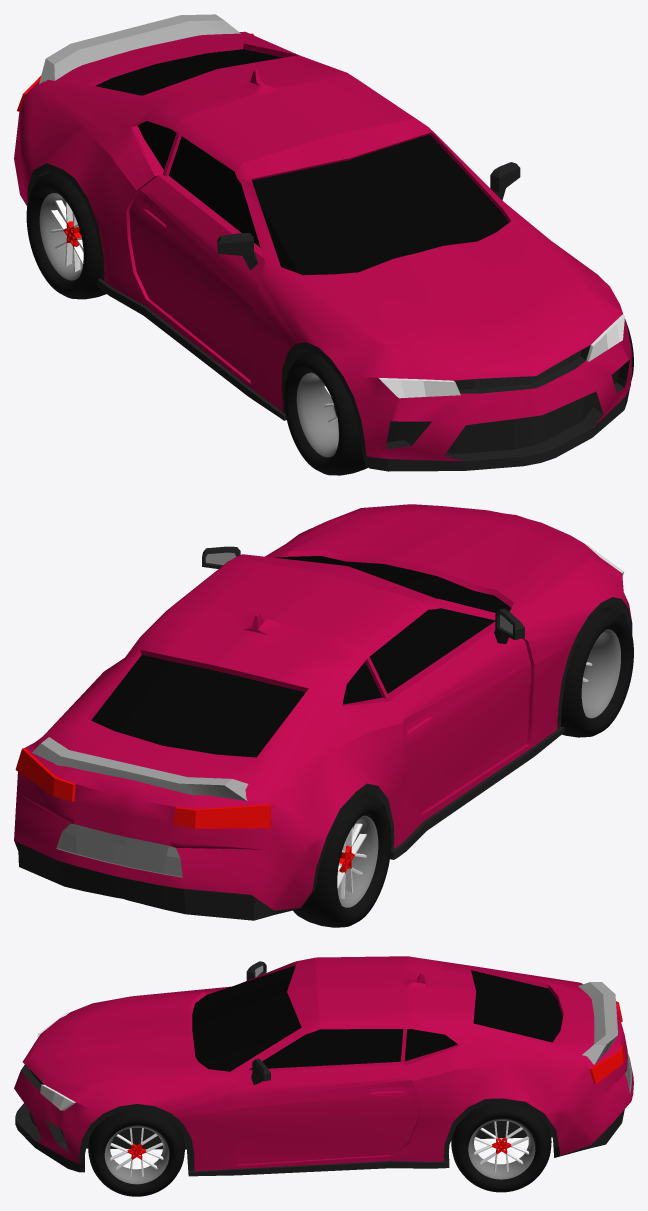
The model's file is camaro.glb.
3 views of the same model, one above another, from view 1: azimuth 30°, elevation 25°; view 2: azimuth 150°, elevation 25°; view 3: azimuth 270°, elevation 25° (orthographic). The views are drawn at different scales.
Parts seen in each view (by area): view 1: polySurface59_Pink_Body_Color_0, polySurface43_Windows_Color_0.001, polySurface65_Second_Body_Color_0.001, Tier_Wheel_Black_0.005, Back_White1_0, Tier_Wheel_Black_0.007, pPipe4_Wheel_Gray_0.005, polySurface41_Front_Lights_Color_0.001, pPipe4_Wheel_Gray_0.007, pCube871_Wheel_White_0.007, Left_Side_Mirror_Second_Body_Color_0.001, Right_Side_Mirror_Second_Body_Color_0.001; view 2: polySurface59_Pink_Body_Color_0, polySurface43_Windows_Color_0.001, polySurface65_Second_Body_Color_0.001, Tier_Wheel_Black_0.007, Tier_Wheel_Black_0.005, Back_White1_0, polySurface45_Third_Cody_Color_0.001, polySurface49_Back_Light_Color_0.001, pPipe4_Wheel_Gray_0.005, pPipe4_Wheel_Gray_0.007, pCube871_Wheel_White_0.007, Left_Side_Mirror_Second_Body_Color_0.001; view 3: polySurface59_Pink_Body_Color_0, polySurface43_Windows_Color_0.001, polySurface65_Second_Body_Color_0.001, Tier_Wheel_Black_0.006, Tier_Wheel_Black_0.004, Back_White1_0, pPipe4_Wheel_Gray_0.006, pPipe4_Wheel_Gray_0.004, pCube871_Wheel_White_0.006, pCube871_Wheel_White_0.004, polySurface49_Back_Light_Color_0.001, polySurface41_Front_Lights_Color_0.001 (+1 smaller).
Boxes of the visible parts, x1=… form: polySurface59_Pink_Body_Color_0: x1=14, y1=31, x2=631, y2=461; polySurface43_Windows_Color_0.001: x1=95, y1=49, x2=508, y2=275; polySurface65_Second_Body_Color_0.001: x1=27, y1=163, x2=630, y2=471; Tier_Wheel_Black_0.005: x1=284, y1=351, x2=367, y2=475; Back_White1_0: x1=39, y1=14, x2=240, y2=84; Tier_Wheel_Black_0.007: x1=26, y1=171, x2=106, y2=299; pPipe4_Wheel_Gray_0.005: x1=296, y1=372, x2=338, y2=457; polySurface41_Front_Lights_Color_0.001: x1=379, y1=314, x2=624, y2=398; pPipe4_Wheel_Gray_0.007: x1=39, y1=193, x2=83, y2=280; pCube871_Wheel_White_0.007: x1=51, y1=200, x2=83, y2=271; Left_Side_Mirror_Second_Body_Color_0.001: x1=217, y1=233, x2=257, y2=270; Right_Side_Mirror_Second_Body_Color_0.001: x1=490, y1=162, x2=520, y2=200; polySurface59_Pink_Body_Color_0: x1=14, y1=504, x2=631, y2=910; polySurface43_Windows_Color_0.001: x1=91, y1=556, x2=511, y2=757; polySurface65_Second_Body_Color_0.001: x1=14, y1=597, x2=632, y2=920; Tier_Wheel_Black_0.007: x1=293, y1=792, x2=391, y2=927; Tier_Wheel_Black_0.005: x1=561, y1=607, x2=633, y2=737; Back_White1_0: x1=32, y1=737, x2=248, y2=800; polySurface45_Third_Cody_Color_0.001: x1=56, y1=823, x2=182, y2=877; polySurface49_Back_Light_Color_0.001: x1=15, y1=748, x2=271, y2=828; pPipe4_Wheel_Gray_0.005: x1=581, y1=629, x2=620, y2=718; pPipe4_Wheel_Gray_0.007: x1=337, y1=815, x2=378, y2=907; pCube871_Wheel_White_0.007: x1=337, y1=823, x2=366, y2=898; Left_Side_Mirror_Second_Body_Color_0.001: x1=494, y1=608, x2=524, y2=643; polySurface59_Pink_Body_Color_0: x1=14, y1=956, x2=633, y2=1171; polySurface43_Windows_Color_0.001: x1=192, y1=965, x2=562, y2=1071; polySurface65_Second_Body_Color_0.001: x1=15, y1=1064, x2=624, y2=1176; Tier_Wheel_Black_0.006: x1=451, y1=1098, x2=551, y2=1192; Tier_Wheel_Black_0.004: x1=88, y1=1109, x2=184, y2=1196; Back_White1_0: x1=578, y1=982, x2=617, y2=1064; pPipe4_Wheel_Gray_0.006: x1=468, y1=1119, x2=535, y2=1179; pPipe4_Wheel_Gray_0.004: x1=104, y1=1125, x2=169, y2=1184; pCube871_Wheel_White_0.006: x1=474, y1=1121, x2=529, y2=1171; pCube871_Wheel_White_0.004: x1=110, y1=1128, x2=163, y2=1176; polySurface49_Back_Light_Color_0.001: x1=589, y1=1001, x2=624, y2=1084; polySurface41_Front_Lights_Color_0.001: x1=37, y1=1012, x2=75, y2=1110.
Bounding box in the file's own units: 6.4 × 4.48 × 14.79.
